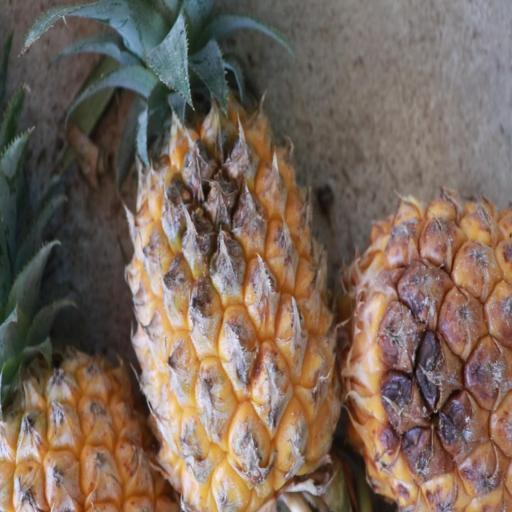Pineapple - v8 v1: (124, 4, 348, 512), (339, 191, 512, 512)
